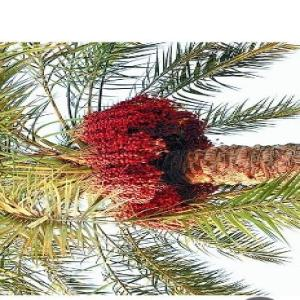palm tree: (0, 39, 299, 294)
